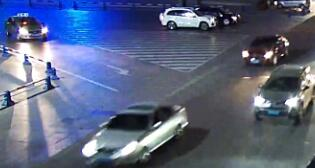car: (82, 102, 186, 165), (253, 63, 315, 124), (157, 4, 214, 32), (242, 34, 287, 67), (6, 11, 49, 45), (190, 5, 238, 26)
